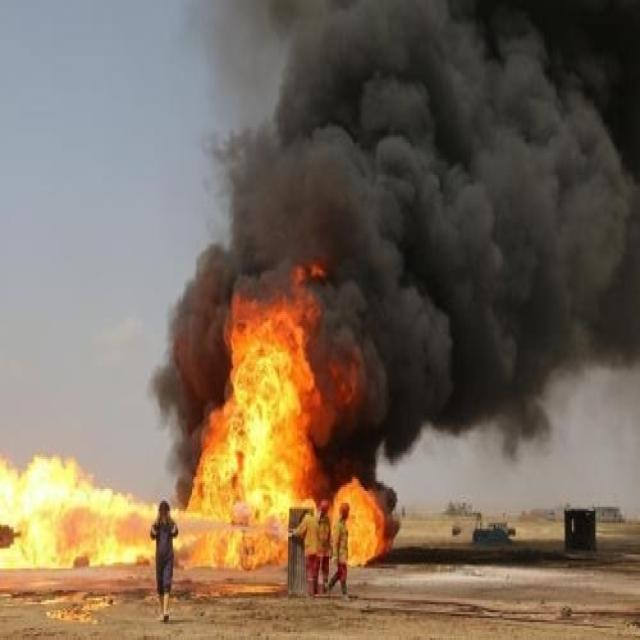Fire: (168, 262, 320, 572), (1, 451, 156, 567), (328, 473, 386, 567)
Smoke: (229, 2, 640, 288), (326, 292, 640, 469), (154, 252, 235, 407)
